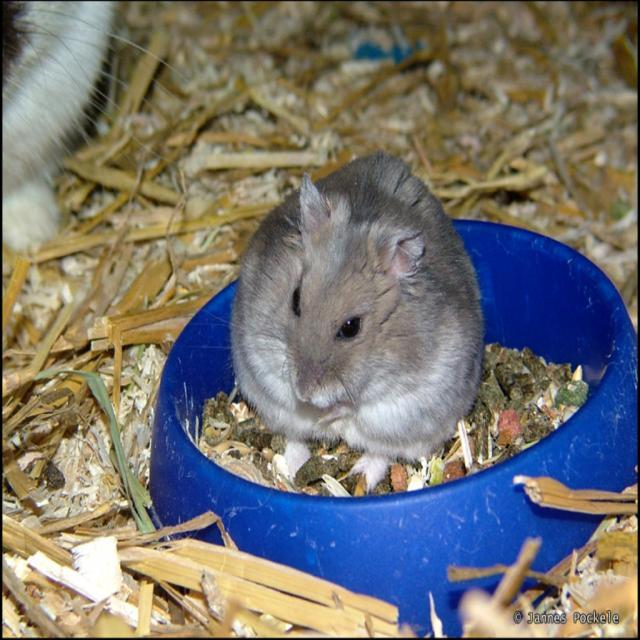rat: (196, 146, 487, 493)
